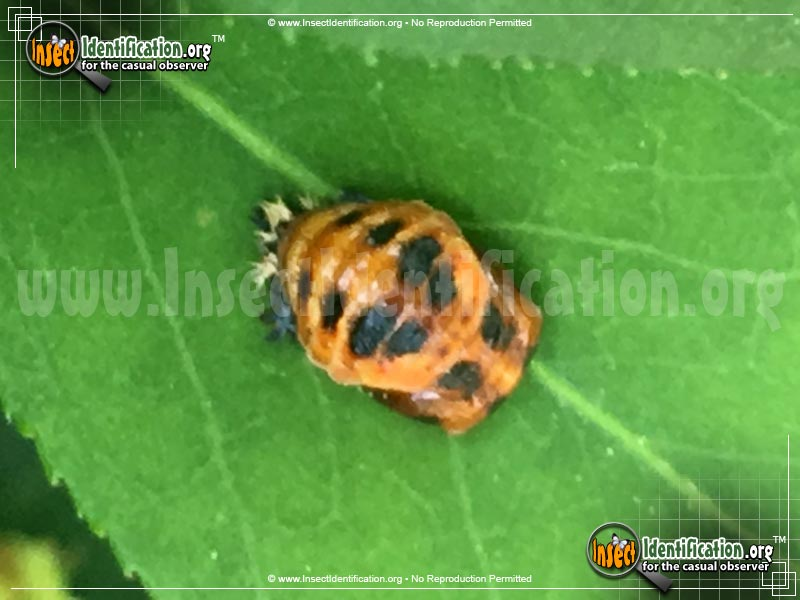Asian Multicolored Lady Beetle: (206, 180, 563, 434)
